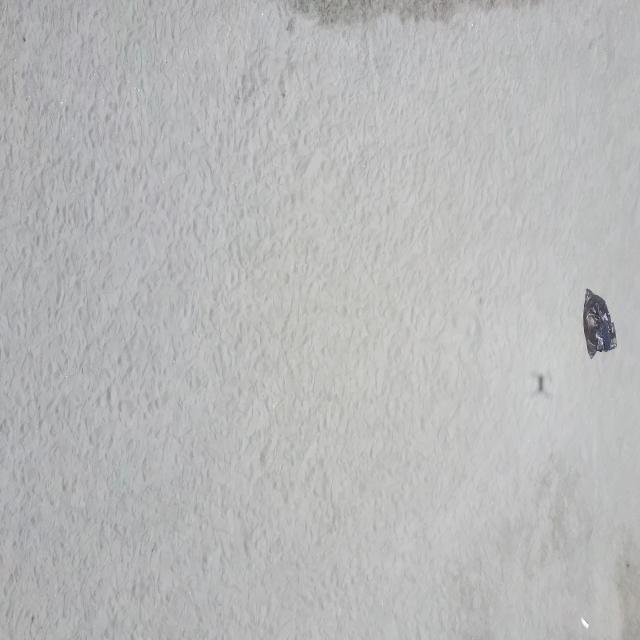retort-pouch: (579, 615, 590, 630)
